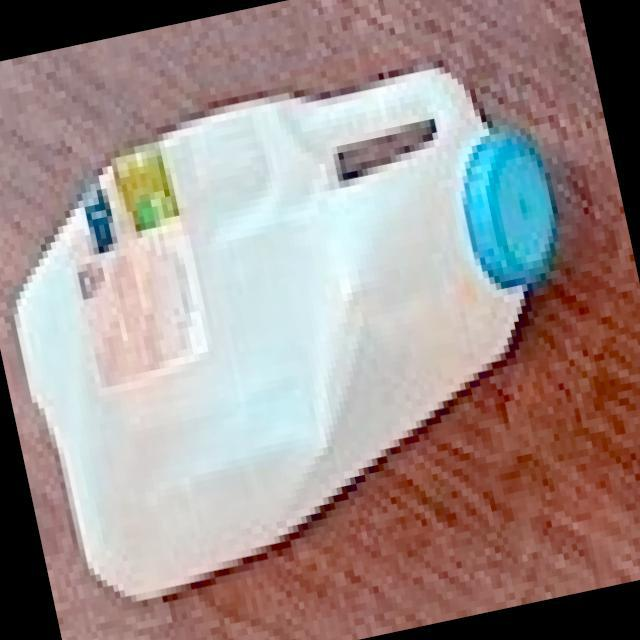HDPE Plastic: (8, 59, 560, 609)
